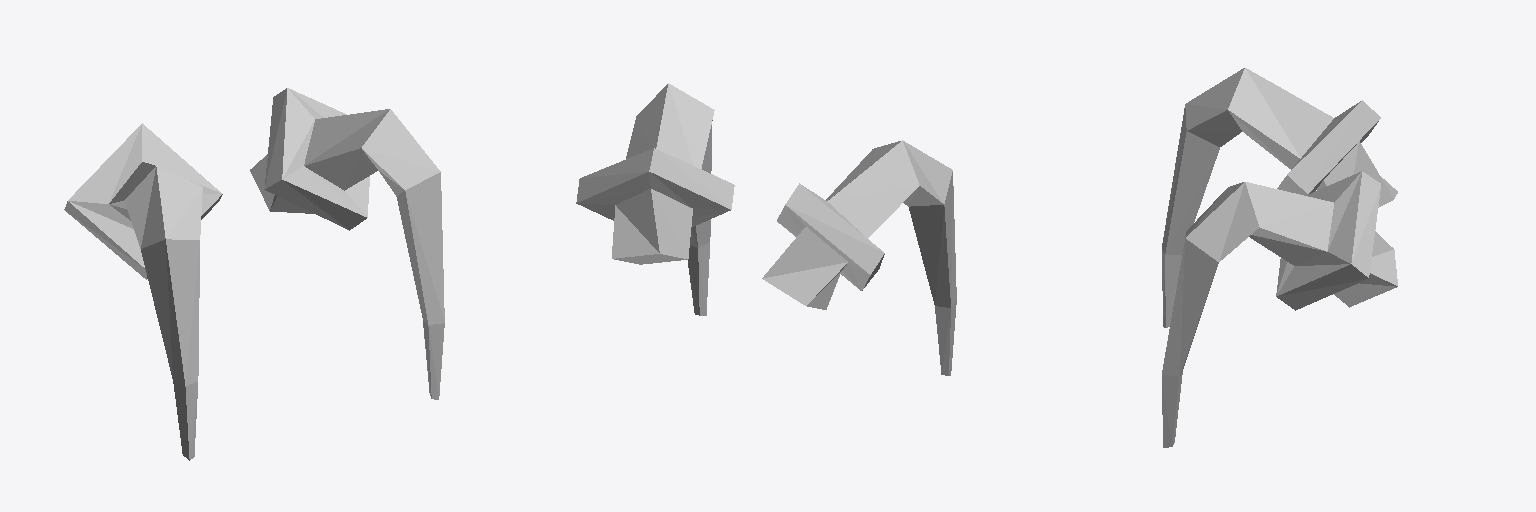
The model's file is twintails_normal.obj.
3 views of the same model, side by side, from view 1: azimuth 30°, elevation 25°; view 2: azimuth 150°, elevation 25°; view 3: azimuth 270°, elevation 25° (orthographic).
Parts seen in each view (by area): view 1: Twintail_Model; view 2: Twintail_Model; view 3: Twintail_Model.
Part boxes in pixels (bbox=[...]): Twintail_Model: bbox=[64, 88, 444, 460]; Twintail_Model: bbox=[576, 83, 956, 375]; Twintail_Model: bbox=[1162, 68, 1397, 447].
Size of the model in its own units: 0.7738 by 0.6368 by 0.5193.